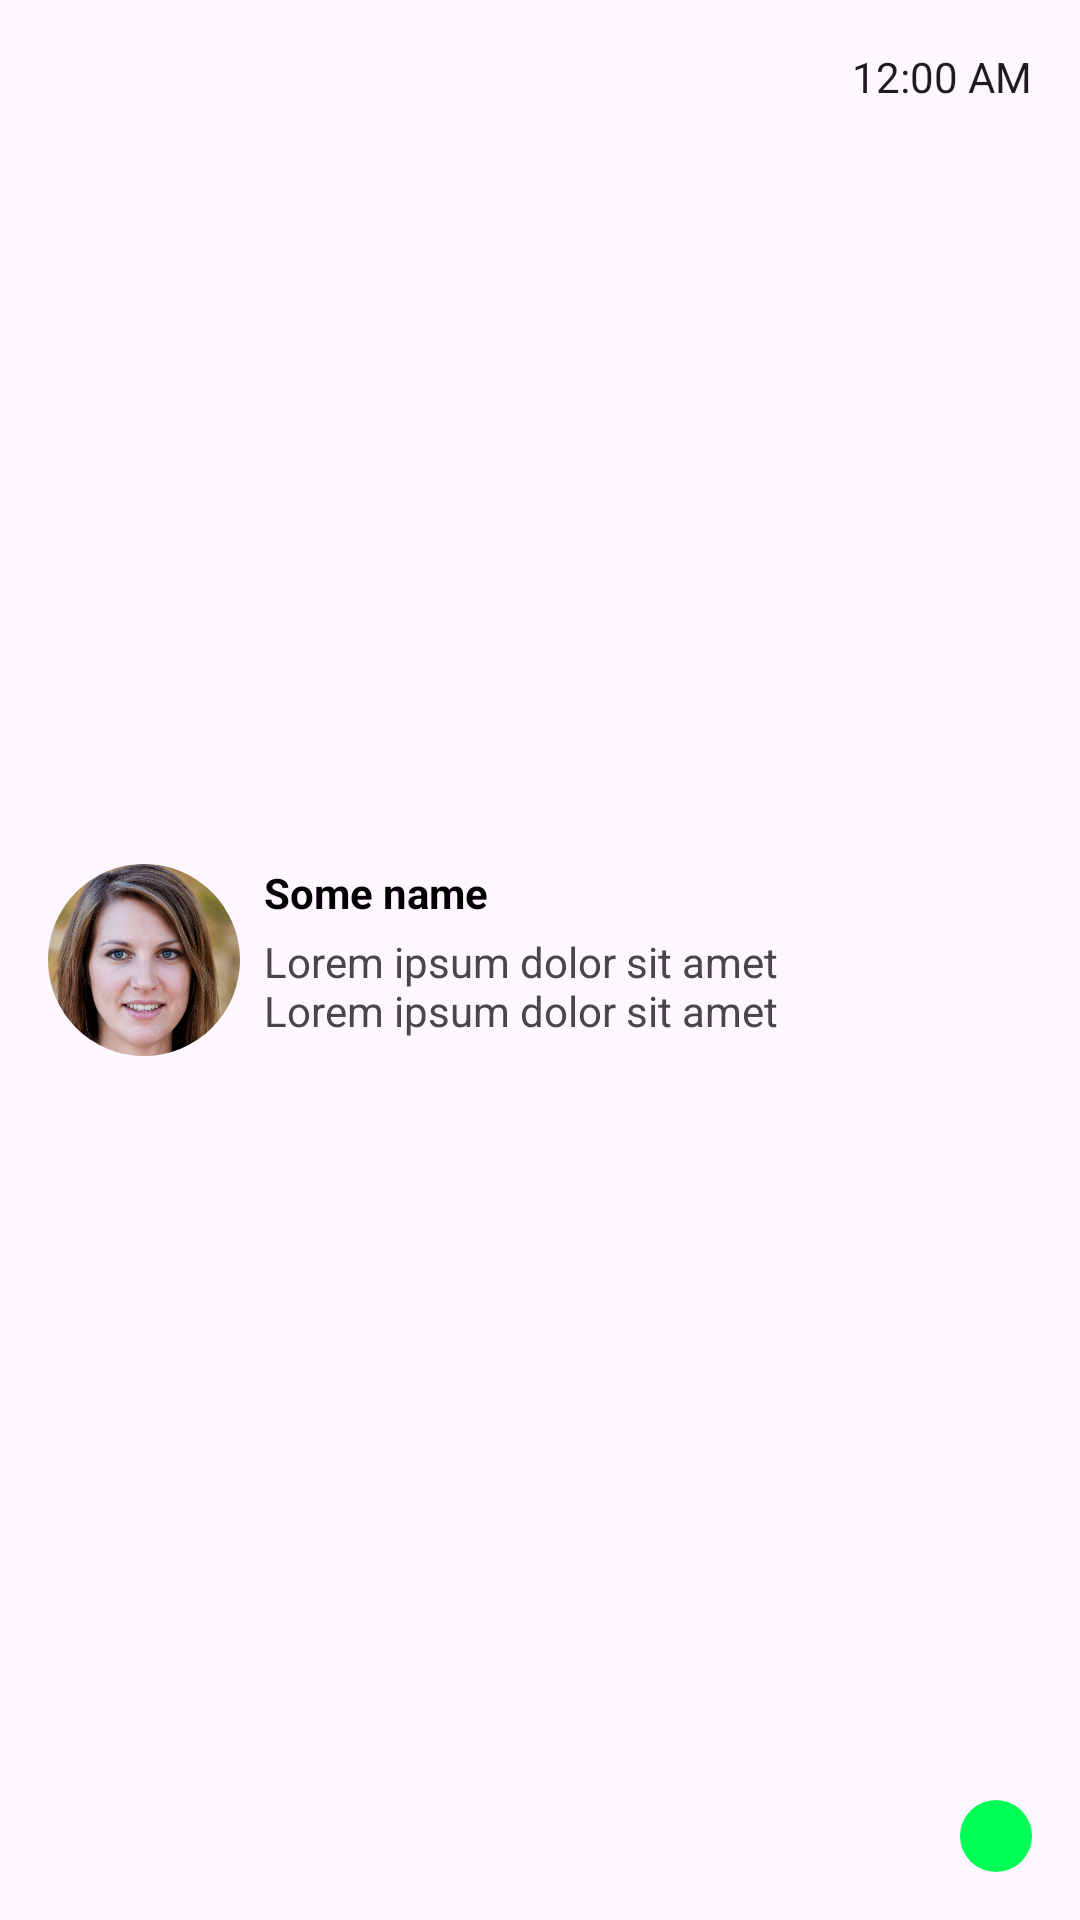

Screen size 1080px x 1920px. Icon name, then its center in pixels as (x=x, y=y):
person: (x=144, y=960)
